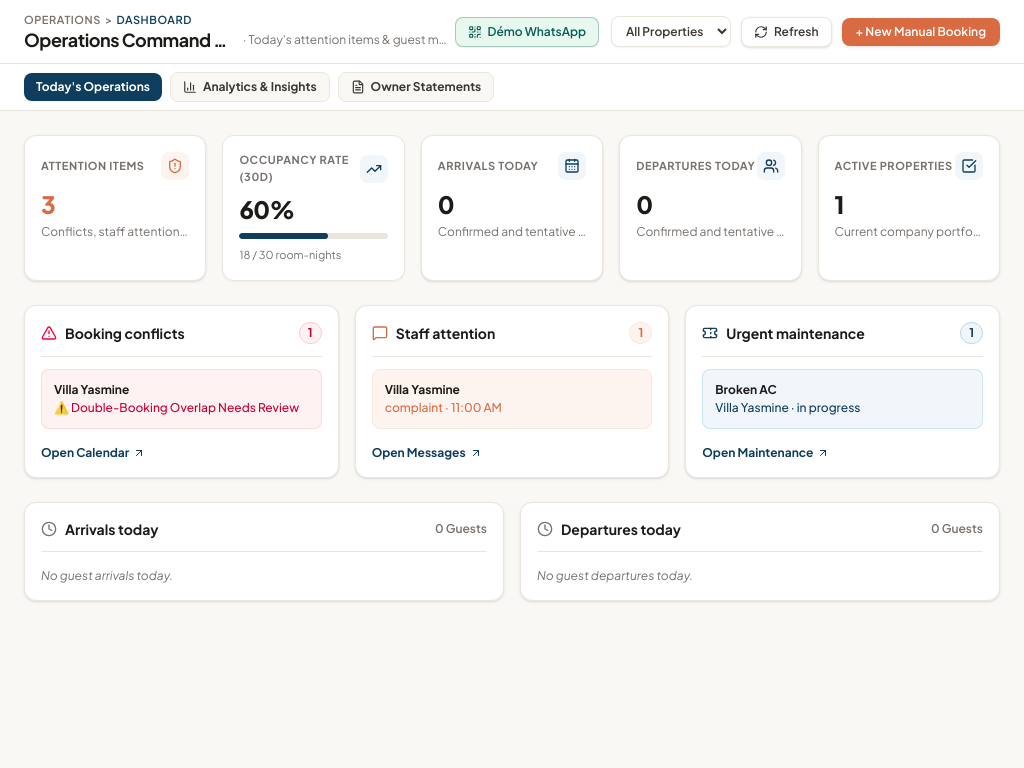
DashboardPage › switches to analytics tab and renders portfolio metrics and channel distribution
Check: the text "Broken AC" is shown, box [715,382,777,396]
Click the button "Analytics & Insights" at (250, 87), box [170,72,330,102]
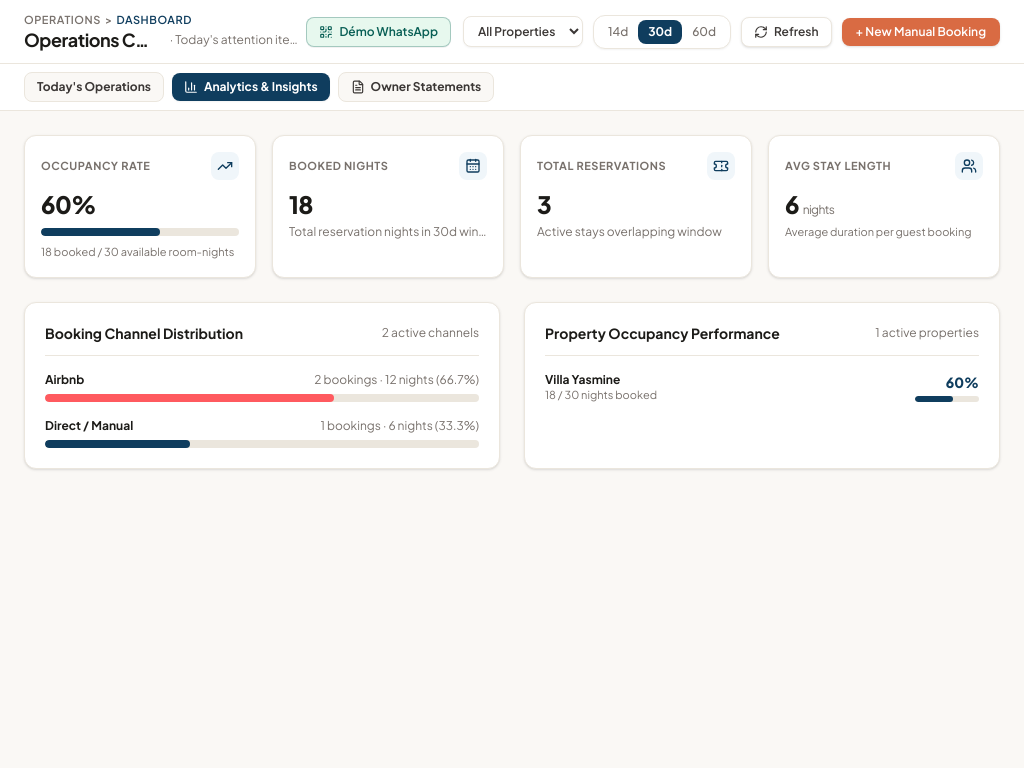
Check: the text "60%" is shown 2 times, box [41,189,96,219]; [946,373,979,391]
Check: the text "18" is shown, box [289,189,313,219]
Check: the text "Airbnb" is shown, box [45,372,84,388]
